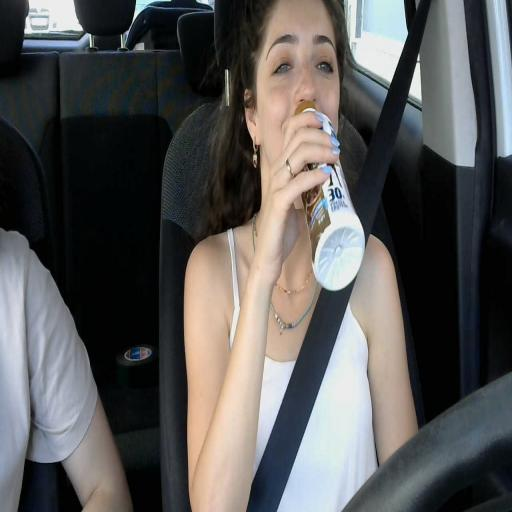Drinking: (241, 0, 369, 295)
